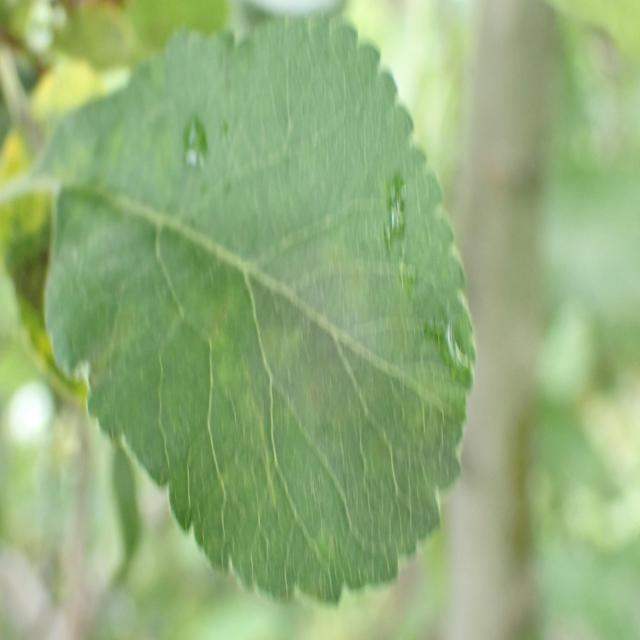scab: (32, 155, 439, 462)
